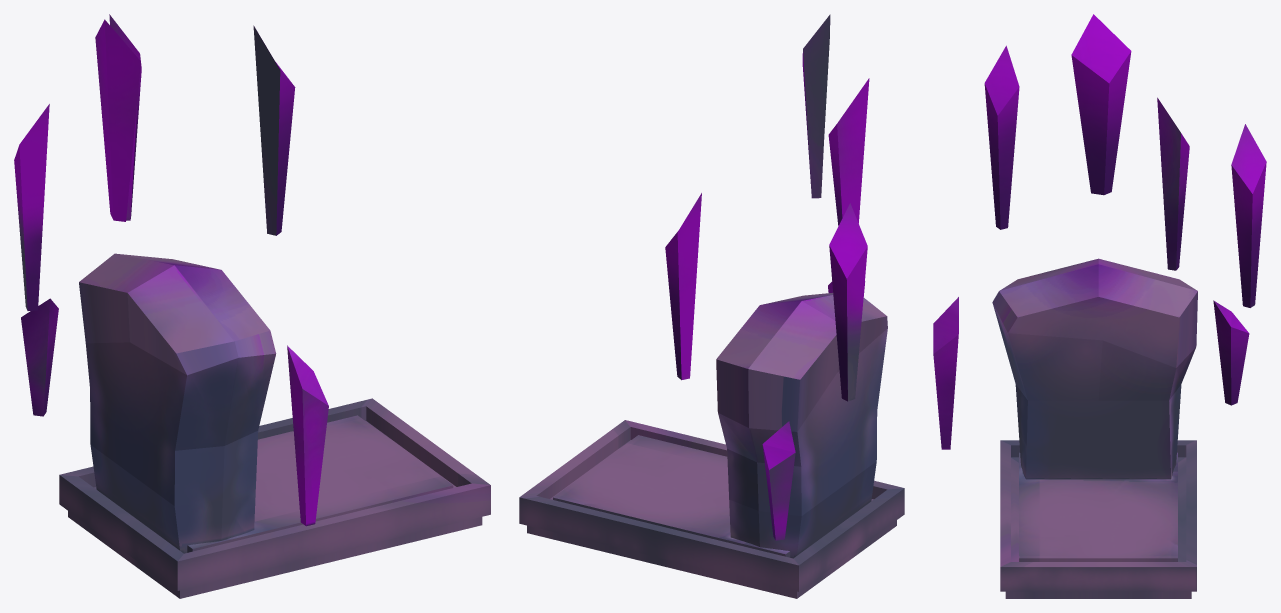
The model's file is SleepSpot.fbx.
The picture shows the model from 3 angles, left to right: view 1: azimuth 30°, elevation 25°; view 2: azimuth 150°, elevation 25°; view 3: azimuth 270°, elevation 25°; orthographic projection. The views are drawn at different scales.
Parts seen in each view (by area): view 1: Cube.001; view 2: Cube.001; view 3: Cube.001.
Part boxes in pixels (x1,y1,x2,y2): Cube.001: (14, 14, 490, 598); Cube.001: (519, 14, 904, 598); Cube.001: (933, 14, 1266, 598).
Bounding box in the file's own units: 362 × 518 × 339.
Materials: 1 (1 with a texture image).
